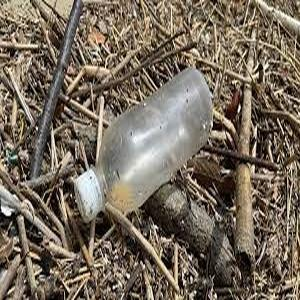Plastic: (73, 67, 216, 222)
